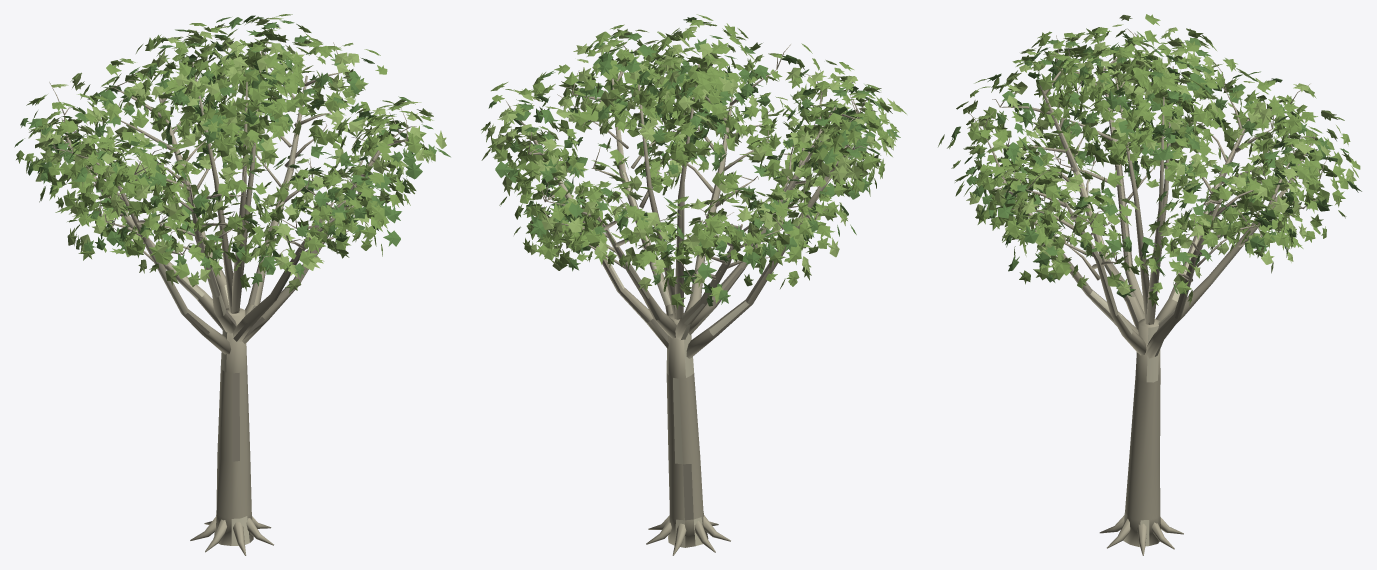
File: tree_plane_c.glb
3 renders of one model, left to right at view 1: azimuth 30°, elevation 25°; view 2: azimuth 150°, elevation 25°; view 3: azimuth 270°, elevation 25°, orthographic. The views are drawn at different scales.
Parts seen in each view (by area): view 1: tree_plane_c_PlaneLeaf, tree_plane_c_PlaneBark, tree_plane_c_PlaneLeafDark, tree_plane_c_PlaneLeafLight, tree_plane_c_PlaneBarkPale, tree_plane_c_PlaneBarkBrown; view 2: tree_plane_c_PlaneLeaf, tree_plane_c_PlaneBark, tree_plane_c_PlaneLeafLight, tree_plane_c_PlaneLeafDark, tree_plane_c_PlaneBarkPale, tree_plane_c_PlaneBarkBrown; view 3: tree_plane_c_PlaneLeaf, tree_plane_c_PlaneBark, tree_plane_c_PlaneLeafDark, tree_plane_c_PlaneLeafLight, tree_plane_c_PlaneBarkPale, tree_plane_c_PlaneBarkBrown.
Part boxes in pixels (x1,y1,x2,y2): tree_plane_c_PlaneLeaf: (16, 14, 435, 291); tree_plane_c_PlaneBark: (49, 40, 416, 555); tree_plane_c_PlaneLeafDark: (14, 15, 450, 286); tree_plane_c_PlaneLeafLight: (29, 17, 446, 293); tree_plane_c_PlaneBarkPale: (94, 75, 378, 545); tree_plane_c_PlaneBarkBrown: (119, 178, 300, 461); tree_plane_c_PlaneLeaf: (481, 14, 906, 309); tree_plane_c_PlaneBark: (506, 38, 871, 555); tree_plane_c_PlaneLeafLight: (481, 26, 901, 294); tree_plane_c_PlaneLeafDark: (488, 17, 900, 306); tree_plane_c_PlaneBarkPale: (534, 79, 799, 547); tree_plane_c_PlaneBarkBrown: (594, 108, 836, 520); tree_plane_c_PlaneLeaf: (938, 14, 1360, 306); tree_plane_c_PlaneBark: (966, 28, 1329, 555); tree_plane_c_PlaneLeafDark: (951, 31, 1361, 297); tree_plane_c_PlaneLeafLight: (966, 15, 1358, 305); tree_plane_c_PlaneBarkPale: (1002, 59, 1274, 546); tree_plane_c_PlaneBarkBrown: (1040, 59, 1255, 345).
Bounding box in the file's own units: 10.58 × 13.56 × 10.63.
